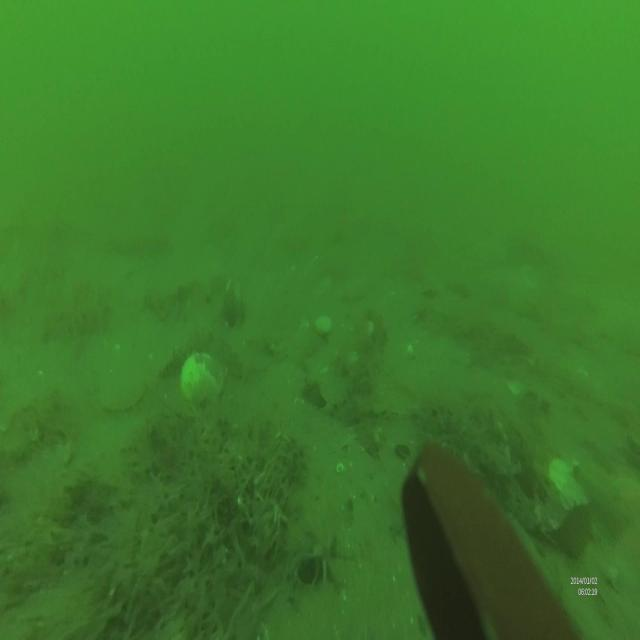scallop: (180, 352, 222, 401), (315, 314, 337, 340)
